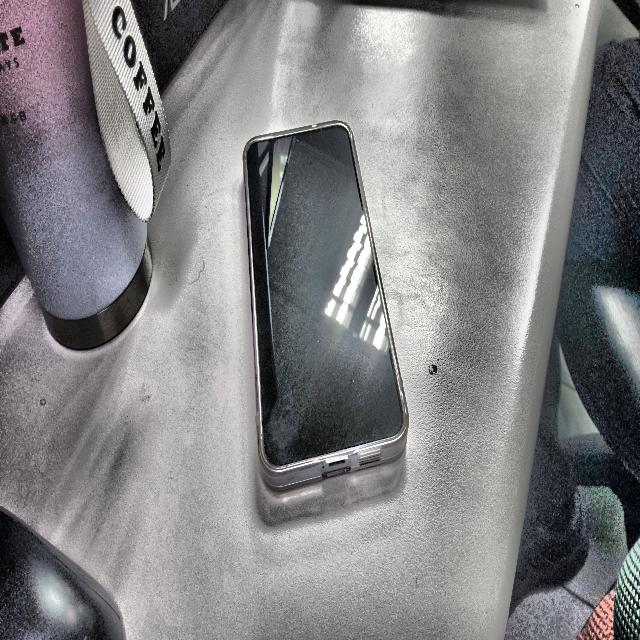MOUSE: (0, 507, 123, 640)
PHONE: (243, 122, 408, 489)
